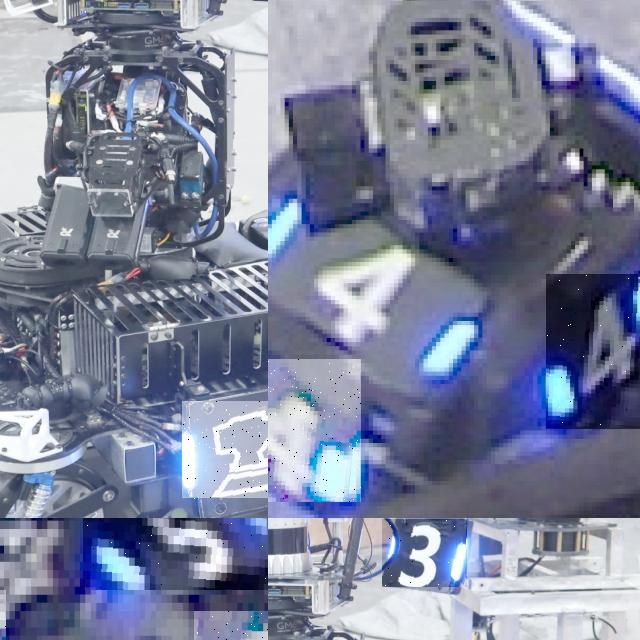B3: (382, 520, 467, 588)
B4: (545, 274, 640, 430), (268, 359, 360, 502)
B5: (82, 518, 268, 590)
Bs: (182, 401, 268, 499)
